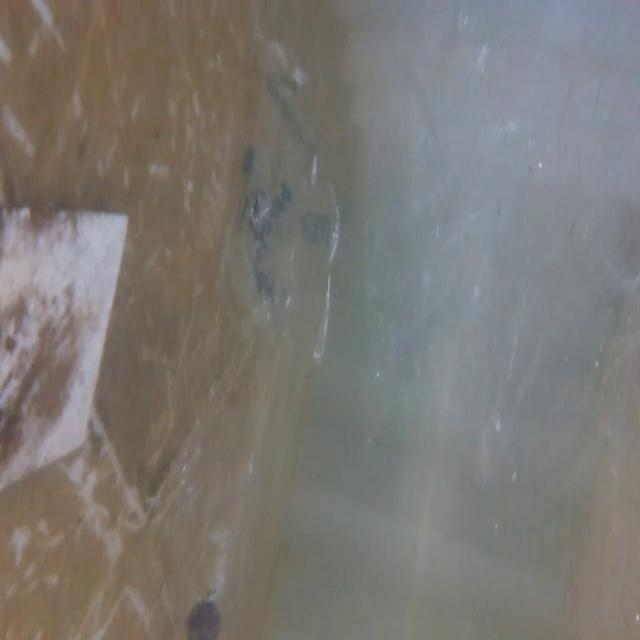plastic bags: (231, 87, 348, 375)
